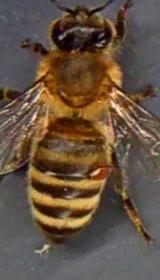varroa_mite: (79, 154, 120, 190)
